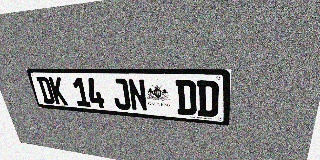1: (71, 77, 91, 107)
4: (85, 78, 105, 108)
D: (197, 80, 219, 117), (175, 80, 197, 116), (36, 77, 56, 104)
J: (111, 78, 131, 110)
K: (48, 77, 68, 105)
N: (127, 79, 148, 112)
